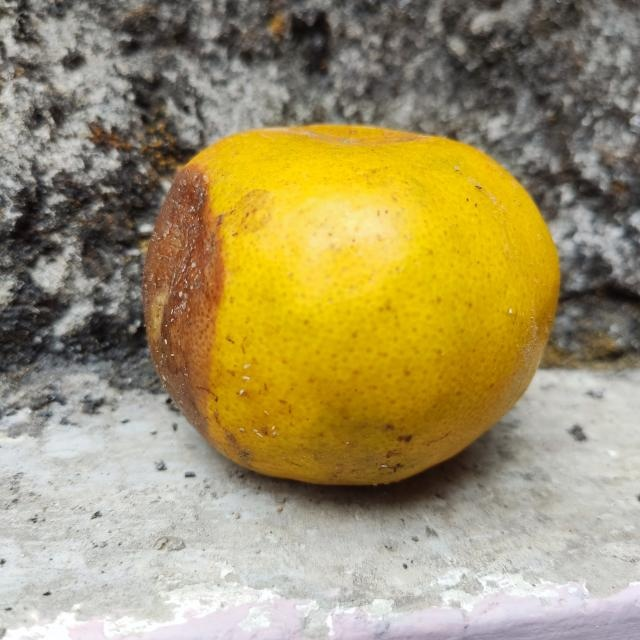agrume: (135, 122, 561, 489)
